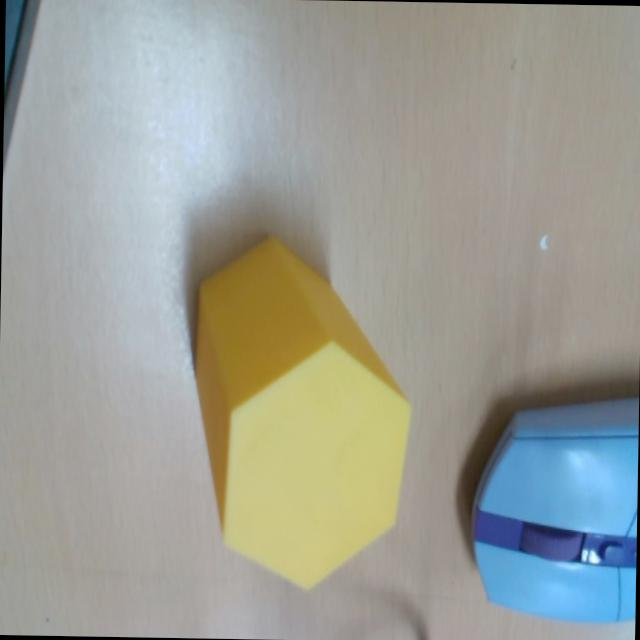hexagon: (195, 239, 410, 587)
